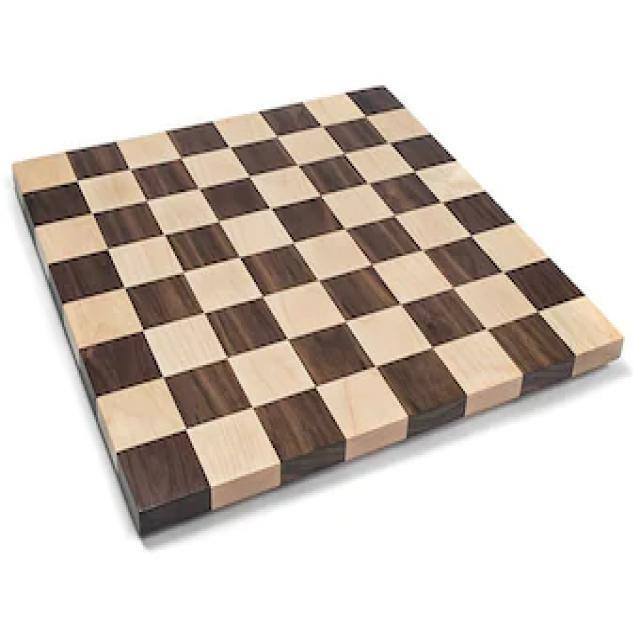chess-table-corners: (116, 480, 174, 537), (585, 310, 630, 366), (356, 76, 408, 110), (5, 148, 44, 191)
